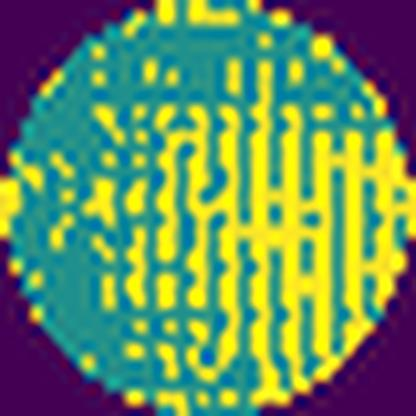Random: (0, 45, 416, 416)
